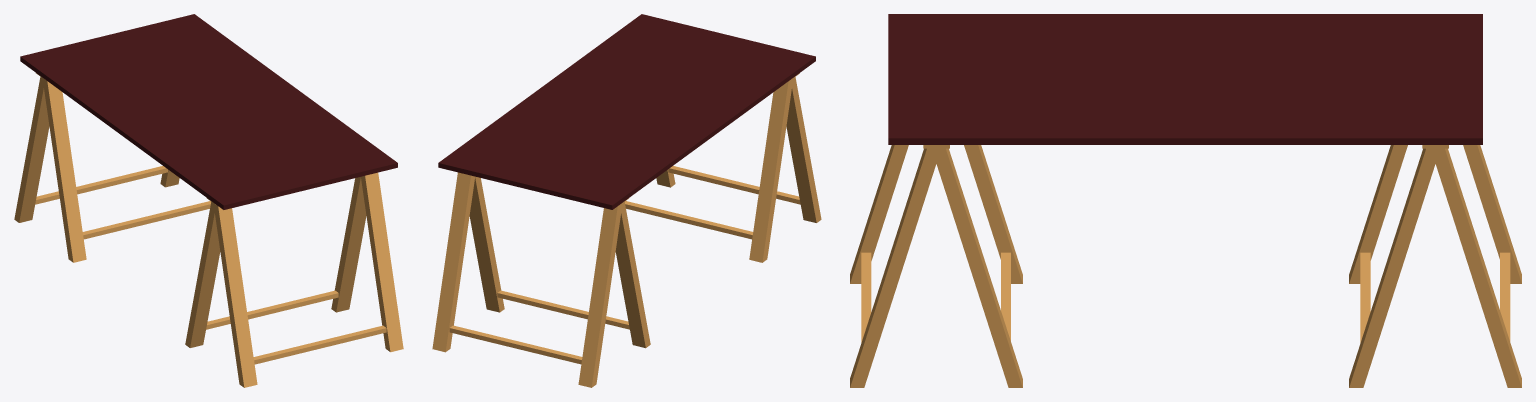
The model's file is desk.glb.
3 renders of one model, left to right at view 1: azimuth 30°, elevation 25°; view 2: azimuth 150°, elevation 25°; view 3: azimuth 270°, elevation 25°, orthographic. The views are drawn at different scales.
Parts seen in each view (by area): view 1: Cube, trestle.001, trestle; view 2: Cube, trestle, trestle.001; view 3: Cube, trestle, trestle.001.
Boxes of the visible parts, <box> form: Cube: <box>20,14,397,209</box>; trestle.001: <box>185,172,403,387</box>; trestle: <box>14,73,210,262</box>; Cube: <box>438,14,815,209</box>; trestle: <box>432,172,650,387</box>; trestle.001: <box>625,73,821,262</box>; Cube: <box>888,14,1482,144</box>; trestle: <box>1349,145,1521,387</box>; trestle.001: <box>850,145,1022,387</box>.
Size of the model in its own units: 8.93 by 8.55 by 20.41.
